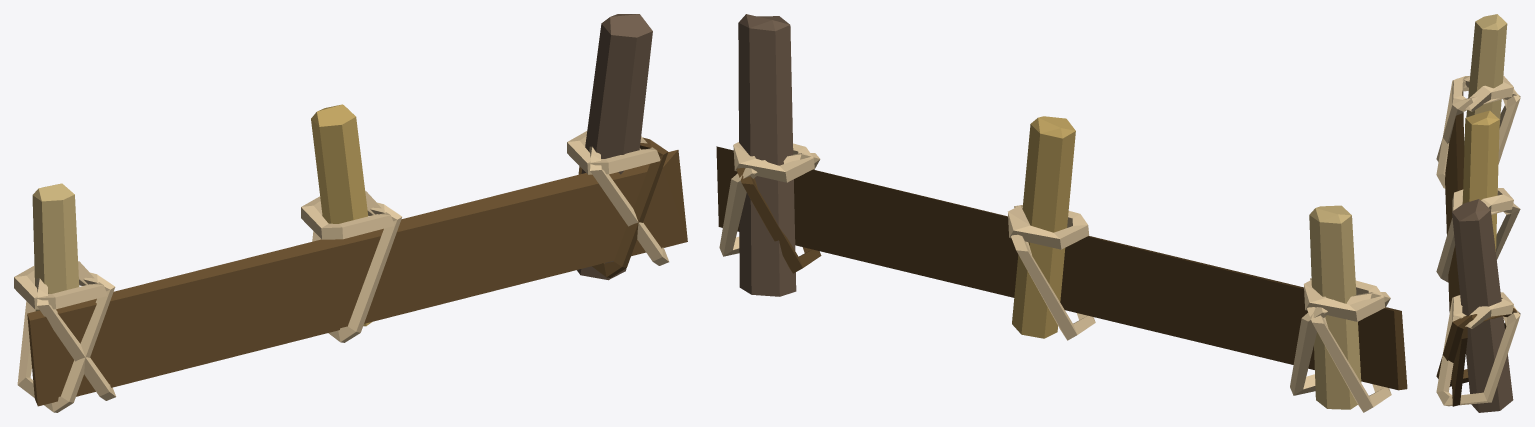
The model's file is EA03_Fence_VegetablePatch_02a.glb.
3 renders of one model, left to right at view 1: azimuth 30°, elevation 25°; view 2: azimuth 150°, elevation 25°; view 3: azimuth 270°, elevation 25°, orthographic. The views are drawn at different scales.
Parts seen in each view (by area): view 1: EA03_Fence_VegetablePatch_02a; view 2: EA03_Fence_VegetablePatch_02a; view 3: EA03_Fence_VegetablePatch_02a.
Part boxes in pixels (x1,y1,x2,y2): EA03_Fence_VegetablePatch_02a: (14,14,687,412); EA03_Fence_VegetablePatch_02a: (716,14,1407,412); EA03_Fence_VegetablePatch_02a: (1436,14,1520,412).
Bounding box in the file's own units: 2.62 × 0.9788 × 0.3596.
Materials: 1 (1 with a texture image).
